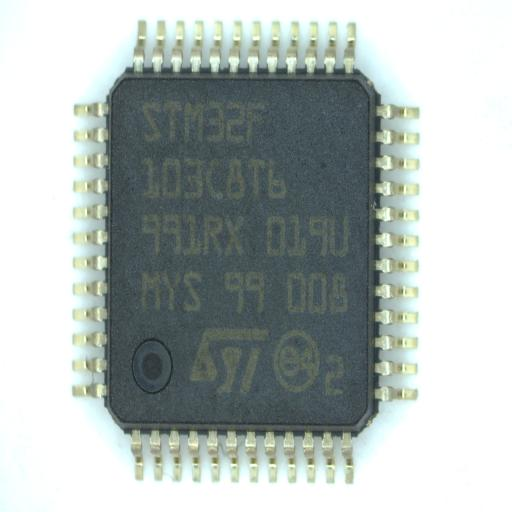pins: (373, 204, 422, 226), (374, 101, 421, 123), (374, 127, 423, 148), (372, 153, 421, 174), (374, 306, 420, 328), (372, 332, 418, 354), (374, 281, 422, 302), (374, 383, 419, 405), (374, 359, 421, 380), (373, 178, 422, 198), (373, 230, 422, 250), (372, 256, 421, 276), (266, 20, 283, 77), (245, 20, 262, 77), (207, 19, 224, 76), (188, 18, 205, 75), (321, 427, 338, 484), (283, 428, 300, 485), (243, 429, 260, 486), (129, 428, 146, 485), (341, 21, 358, 77), (303, 19, 320, 75), (285, 19, 302, 75), (227, 20, 244, 76), (167, 429, 184, 485), (148, 429, 165, 485), (324, 18, 340, 75), (170, 19, 186, 76), (132, 19, 148, 76), (264, 429, 280, 486), (151, 20, 167, 76), (339, 430, 355, 486), (301, 428, 317, 484), (225, 429, 241, 485), (205, 429, 221, 485), (186, 428, 202, 484), (71, 98, 111, 120), (71, 124, 111, 146), (71, 226, 111, 248), (71, 202, 111, 224), (70, 354, 109, 376), (71, 277, 111, 298), (70, 329, 110, 350), (70, 379, 110, 400), (72, 150, 111, 171), (71, 176, 110, 197), (71, 253, 110, 274), (70, 304, 109, 325)
